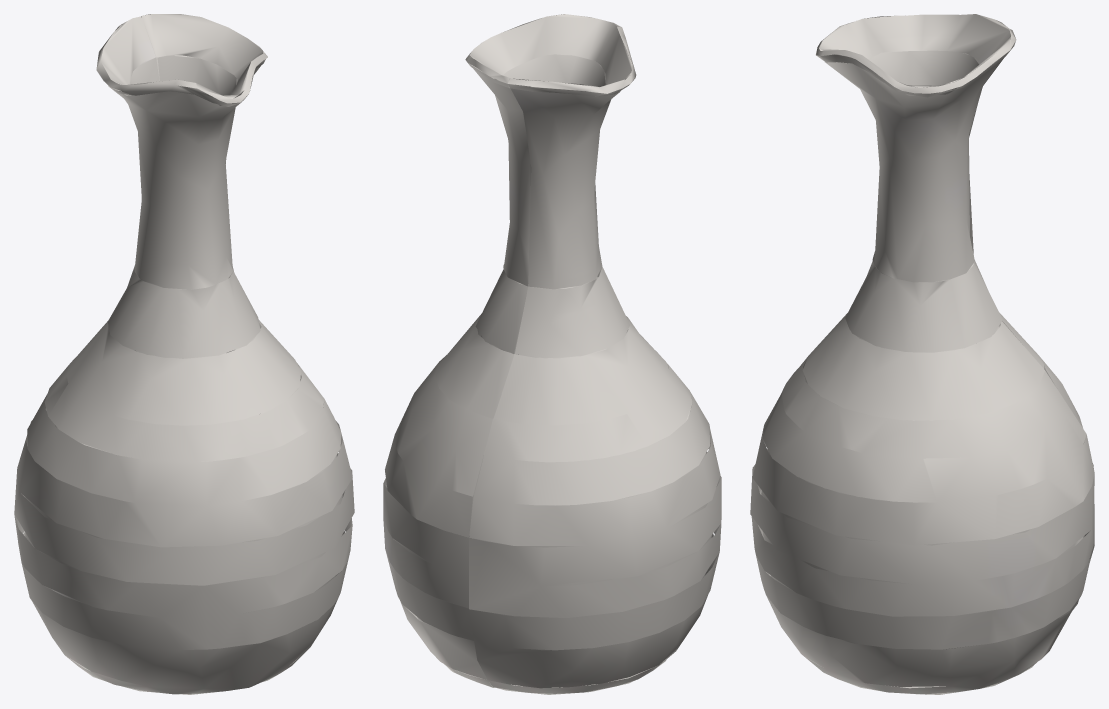
The model's file is vase-balanced-7f3696f9d5.glb.
3 views of the same model, side by side, from view 1: azimuth 30°, elevation 25°; view 2: azimuth 150°, elevation 25°; view 3: azimuth 270°, elevation 25° (orthographic).
Parts seen in each view (by area): view 1: ceramic_vase_01; view 2: ceramic_vase_01; view 3: ceramic_vase_01.
Boxes of the visible parts, left/top/right/bottom form: ceramic_vase_01: left=14, top=14, right=354, bottom=694; ceramic_vase_01: left=383, top=14, right=721, bottom=694; ceramic_vase_01: left=750, top=14, right=1094, bottom=694.
Bounding box in the file's own units: 0.2054 × 0.4005 × 0.2038.
1 material, 1 textured.
